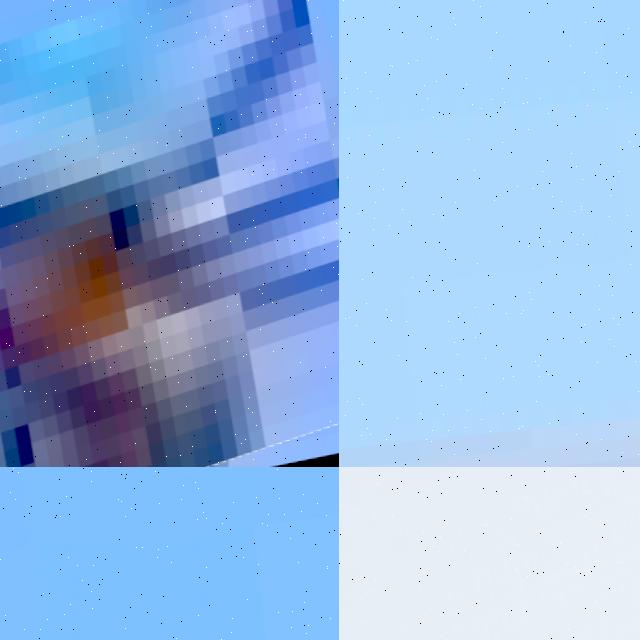0: (0, 0, 339, 467)
drone: (339, 467, 640, 640)
